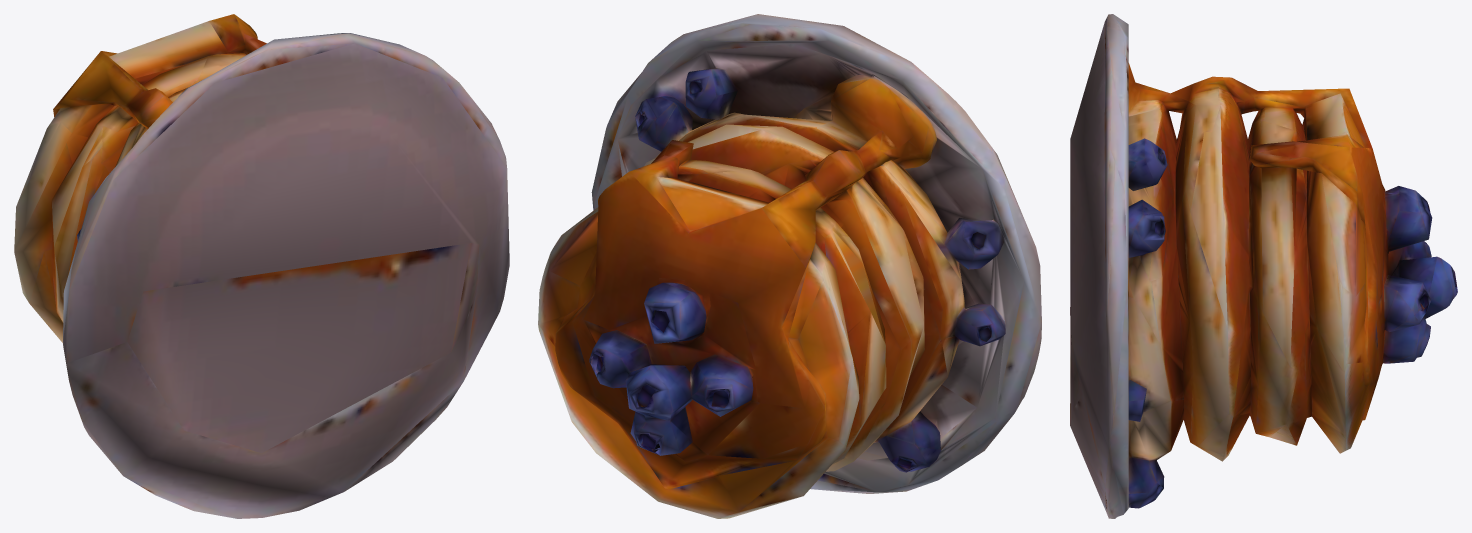
3 renders of one model, left to right at view 1: azimuth 30°, elevation 25°; view 2: azimuth 150°, elevation 25°; view 3: azimuth 270°, elevation 25°, orthographic. The views are drawn at different scales.
Visible parts, largest first — view 1: material; view 2: material; view 3: material.
Boxes of the visible parts, x1=… form: material: x1=14, y1=14, x2=509, y2=518; material: x1=538, y1=14, x2=1041, y2=518; material: x1=1070, y1=14, x2=1457, y2=518.
Bounding box in the file's own units: 0.9999 × 1 × 0.7726.
1 material, 1 textured.
